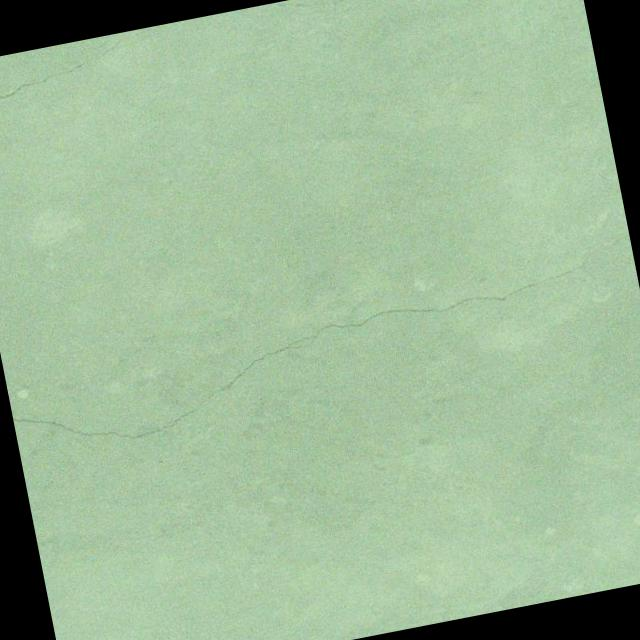crack: (0, 230, 640, 461), (0, 24, 177, 131), (277, 0, 351, 15)
